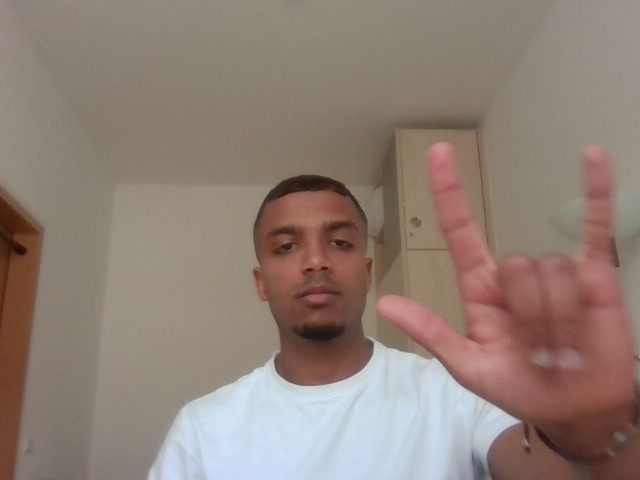absolutely: (373, 136, 640, 439)
